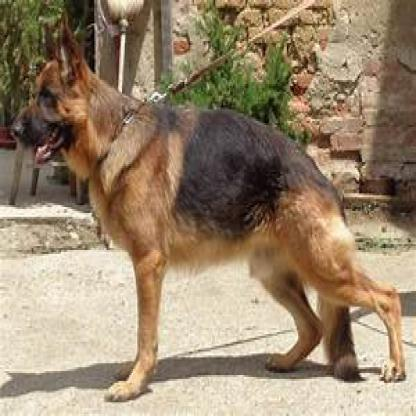dog: (14, 14, 408, 400)
